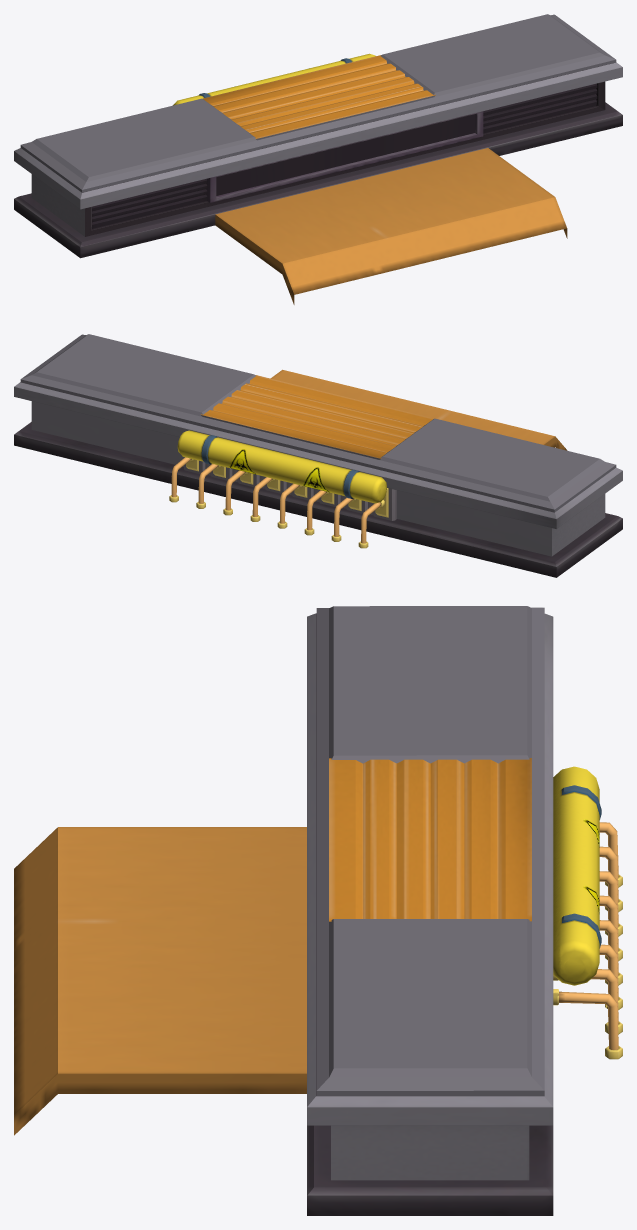
File: controlTable.glb
The picture shows the model from 3 angles, top to bottom: view 1: azimuth 30°, elevation 25°; view 2: azimuth 150°, elevation 25°; view 3: azimuth 270°, elevation 25°; orthographic projection. The views are drawn at different scales.
Parts seen in each view (by area): view 1: Cube.008, Cube.031; view 2: Cube.008, Cube.031; view 3: Cube.008, Cube.031.
Boxes of the visible parts, <box> form: Cube.008: <box>14,14,622,304</box>; Cube.031: <box>173,53,375,105</box>; Cube.008: <box>14,334,622,577</box>; Cube.031: <box>169,430,396,548</box>; Cube.008: <box>14,606,553,1215</box>; Cube.031: <box>553,766,622,1059</box>.
Size of what is drawn, in the model's own units: 8.18 by 1.36 by 4.29.
Materials: 3 (2 with a texture image).
